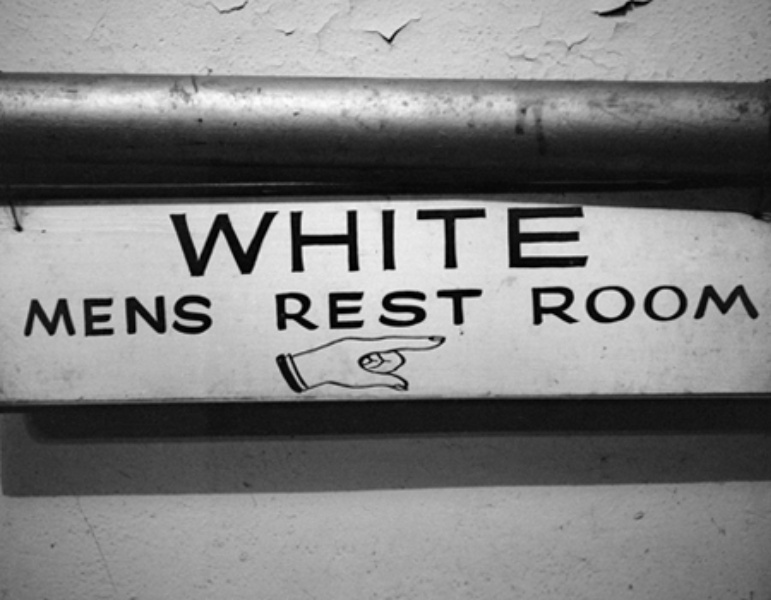text: (177, 201, 192, 278), (193, 201, 208, 278), (209, 201, 224, 278), (225, 201, 240, 278), (241, 201, 256, 278), (257, 201, 272, 278), (273, 201, 288, 278), (289, 201, 304, 278), (305, 201, 320, 278), (321, 201, 336, 278), (337, 201, 352, 278), (353, 201, 368, 278), (369, 201, 384, 278), (385, 201, 400, 278), (401, 201, 416, 278), (417, 201, 432, 278), (433, 201, 448, 278), (449, 201, 464, 278), (465, 201, 480, 278), (481, 201, 496, 278), (497, 201, 512, 278), (513, 201, 528, 278), (529, 201, 544, 278), (545, 201, 560, 278), (561, 201, 576, 278), (577, 201, 590, 278), (273, 287, 288, 331), (289, 287, 304, 331), (305, 287, 320, 331), (321, 287, 336, 331), (337, 287, 352, 331), (353, 287, 368, 331), (369, 287, 384, 331), (385, 287, 400, 331), (401, 287, 416, 331), (417, 287, 432, 331), (433, 287, 448, 331), (449, 287, 464, 331), (465, 287, 480, 331), (33, 295, 48, 338), (49, 295, 64, 338), (65, 295, 80, 338), (81, 295, 96, 338), (97, 295, 112, 338), (113, 295, 128, 338), (129, 295, 144, 338), (145, 295, 160, 338), (161, 295, 176, 338), (177, 295, 192, 338), (193, 295, 208, 338), (545, 285, 560, 328), (561, 285, 576, 328), (577, 285, 592, 328), (593, 285, 608, 328), (609, 285, 624, 328), (625, 285, 640, 328), (641, 285, 656, 328), (657, 285, 672, 328), (673, 285, 688, 328), (689, 285, 704, 328), (705, 285, 720, 328), (721, 285, 736, 328), (737, 285, 752, 328), (168, 201, 176, 278), (530, 285, 544, 328), (21, 295, 32, 338), (753, 285, 763, 328), (209, 295, 215, 338), (481, 287, 485, 331)
